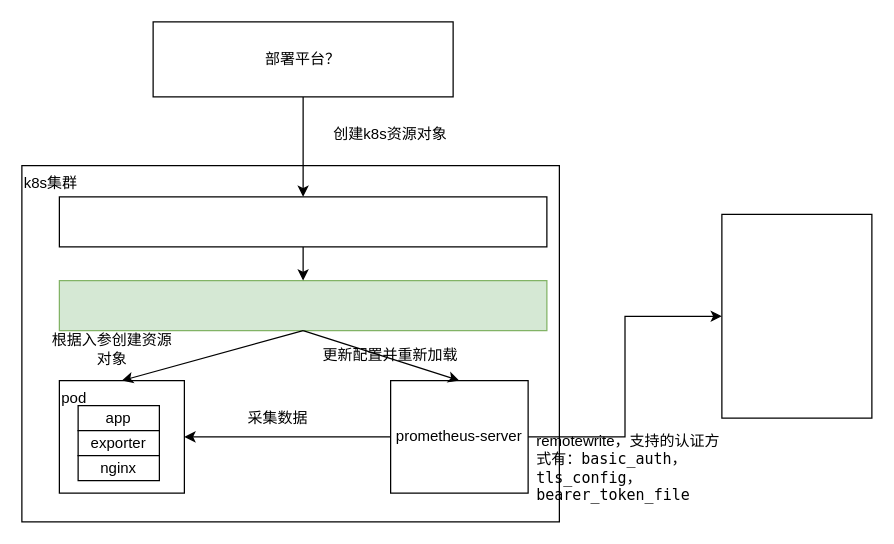
The diagram is 894 pixels wide and 544 high, and some of its shapes have lost their labels. The shapes that lost their labels are listed below. From the top down, each one's centre as x and y in pixels, then its label:
At [302,221]: "k8s API".
At [302,305]: "CRD".
At [796,315]: "cortex".
